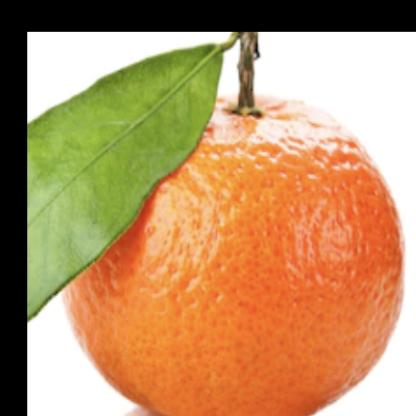fresh: (58, 40, 403, 416)
